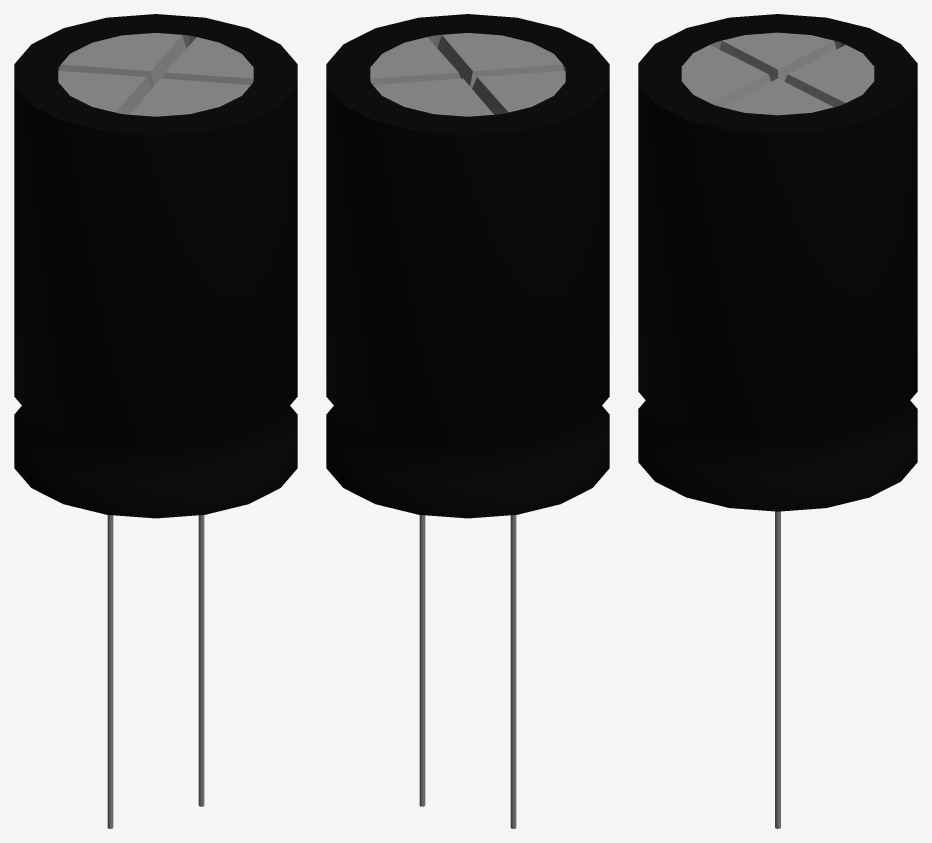
The model's file is capacitor.FBX.
3 renders of one model, left to right at view 1: azimuth 30°, elevation 25°; view 2: azimuth 150°, elevation 25°; view 3: azimuth 270°, elevation 25°, orthographic.
Parts seen in each view (by area): view 1: Cylinder001; view 2: Cylinder001; view 3: Cylinder001.
Part boxes in pixels (bbox=[...]): Cylinder001: bbox=[14, 14, 297, 828]; Cylinder001: bbox=[326, 14, 609, 828]; Cylinder001: bbox=[638, 14, 917, 828].
Bounding box in the file's own units: 38.73 × 110 × 38.14.
Materials: 1 (1 with a texture image).
